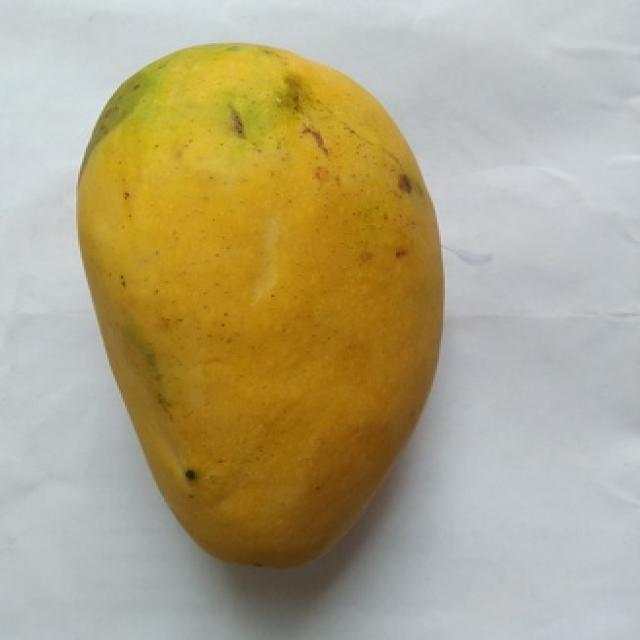Mango: (78, 45, 443, 565)
